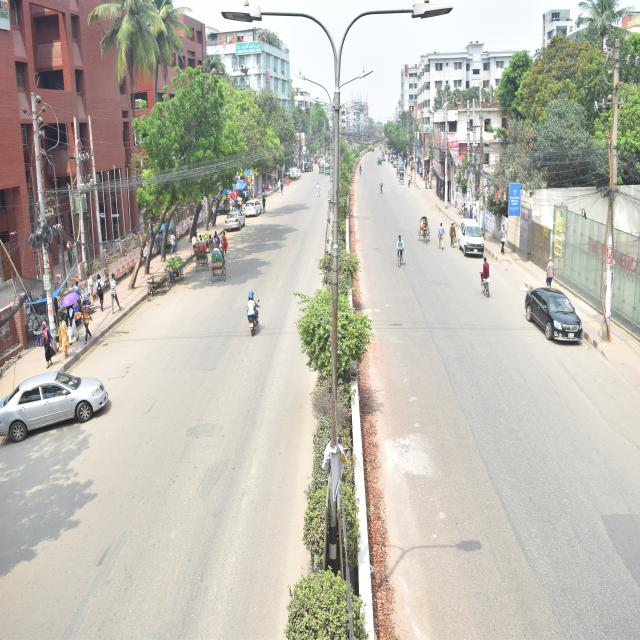car: (0, 350, 159, 460), (497, 282, 640, 381), (448, 210, 499, 280), (218, 198, 248, 244), (242, 194, 268, 226)
motorbike: (222, 283, 292, 373)
